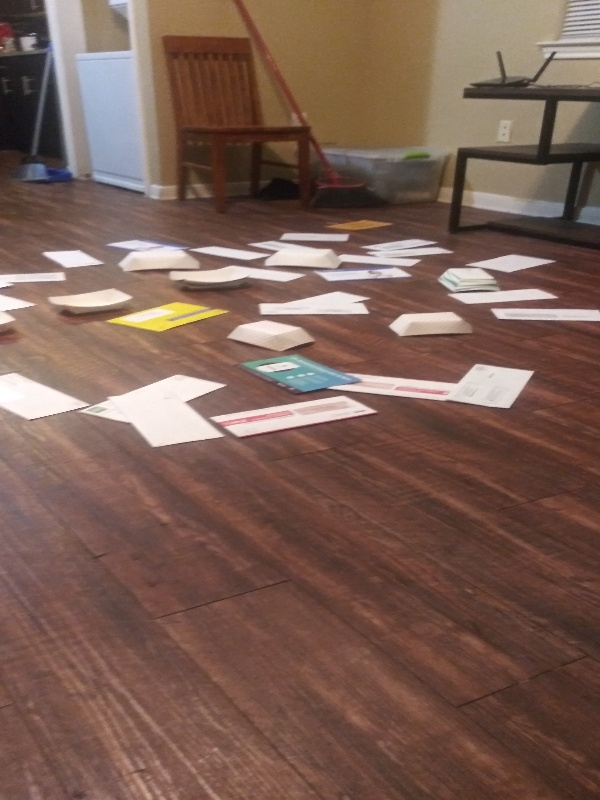plate: (44, 286, 136, 323), (224, 319, 321, 354), (386, 308, 476, 340), (167, 263, 256, 292), (112, 247, 205, 274), (431, 263, 509, 293), (258, 244, 350, 269), (1, 307, 22, 337)
